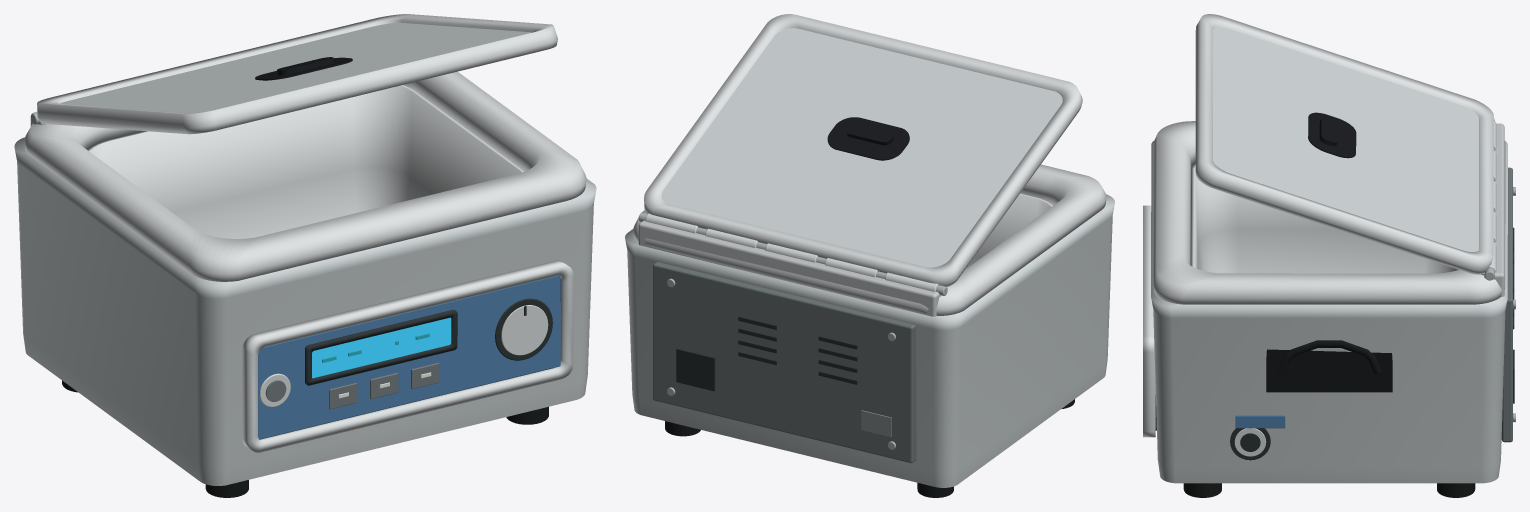
Rendered from ultrasonic-cleaner.glb.
The picture shows the model from 3 angles, left to right: view 1: azimuth 30°, elevation 25°; view 2: azimuth 150°, elevation 25°; view 3: azimuth 270°, elevation 25°; orthographic projection. The views are drawn at different scales.
Visible parts, largest first — view 1: Runtime batch - Bright brushed stainless steel, Runtime batch - Satin formed stainless instrument enclosure, Runtime batch - Restrained instrument blue, Runtime batch - Functional graphite polymer, Runtime batch - Active blue laboratory touchscreen, Runtime batch - Molded control-key polymer, Runtime batch - Black leveling-foot rubber, Runtime batch - Matte black coated handle.001; view 2: Runtime batch - Satin formed stainless instrument enclosure, Runtime batch - Medium instrument grey enamel, Runtime batch - Bright brushed stainless steel, Runtime batch - Brushed stainless steel, Runtime batch - Functional graphite polymer, Runtime batch - Matte black coated handle.001, Runtime batch - Black leveling-foot rubber, Runtime batch - Zinc plated hardware, Runtime batch - Cool laboratory grey polymer; view 3: Runtime batch - Satin formed stainless instrument enclosure, Runtime batch - Bright brushed stainless steel, Runtime batch - Matte black coated handle.001, Runtime batch - Medium instrument grey enamel, Runtime batch - Brushed stainless steel, Runtime batch - Functional graphite polymer, Runtime batch - Black leveling-foot rubber, Runtime batch - Restrained instrument blue.
Part boxes in pixels (box(x1,y1,x2,y2)): Runtime batch - Bright brushed stainless steel: box(24, 14, 586, 452); Runtime batch - Satin formed stainless instrument enclosure: box(14, 22, 596, 485); Runtime batch - Restrained instrument blue: box(258, 275, 560, 439); Runtime batch - Functional graphite polymer: box(260, 279, 560, 439); Runtime batch - Active blue laboratory touchscreen: box(312, 317, 451, 378); Runtime batch - Molded control-key polymer: box(265, 362, 439, 409); Runtime batch - Black leveling-foot rubber: box(62, 380, 548, 497); Runtime batch - Matte black coated handle.001: box(255, 57, 352, 80); Runtime batch - Satin formed stainless instrument enclosure: box(625, 28, 1114, 487); Runtime batch - Medium instrument grey enamel: box(653, 262, 916, 463); Runtime batch - Bright brushed stainless steel: box(633, 14, 1106, 315); Runtime batch - Brushed stainless steel: box(638, 220, 941, 316); Runtime batch - Functional graphite polymer: box(676, 316, 857, 391); Runtime batch - Matte black coated handle.001: box(827, 117, 909, 160); Runtime batch - Black leveling-foot rubber: box(665, 399, 1074, 497); Runtime batch - Zinc plated hardware: box(639, 212, 947, 449); Runtime batch - Cool laboratory grey polymer: box(861, 410, 891, 437); Runtime batch - Satin formed stainless instrument enclosure: box(1151, 27, 1507, 483); Runtime batch - Bright brushed stainless steel: box(1143, 14, 1505, 456); Runtime batch - Matte black coated handle.001: box(1266, 112, 1392, 392); Runtime batch - Medium instrument grey enamel: box(1501, 167, 1512, 442); Runtime batch - Brushed stainless steel: box(1480, 123, 1504, 296); Runtime batch - Functional graphite polymer: box(1155, 227, 1514, 460); Runtime batch - Black leveling-foot rubber: box(1183, 483, 1475, 497); Runtime batch - Restrained instrument blue: box(1235, 415, 1285, 428).
Size of the model in its own units: 0.36 by 0.3297 by 0.33.
